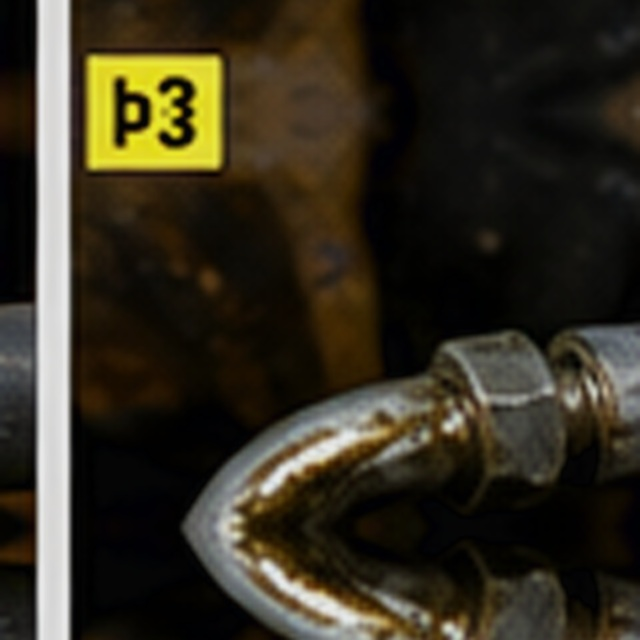hydraulic_oil_leak: (166, 225, 482, 410)
